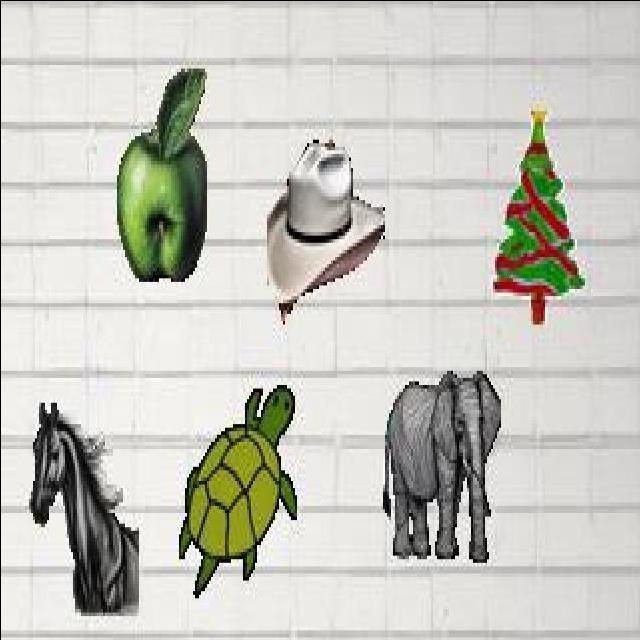Other Objects: (265, 138, 384, 324), (116, 68, 207, 281)
